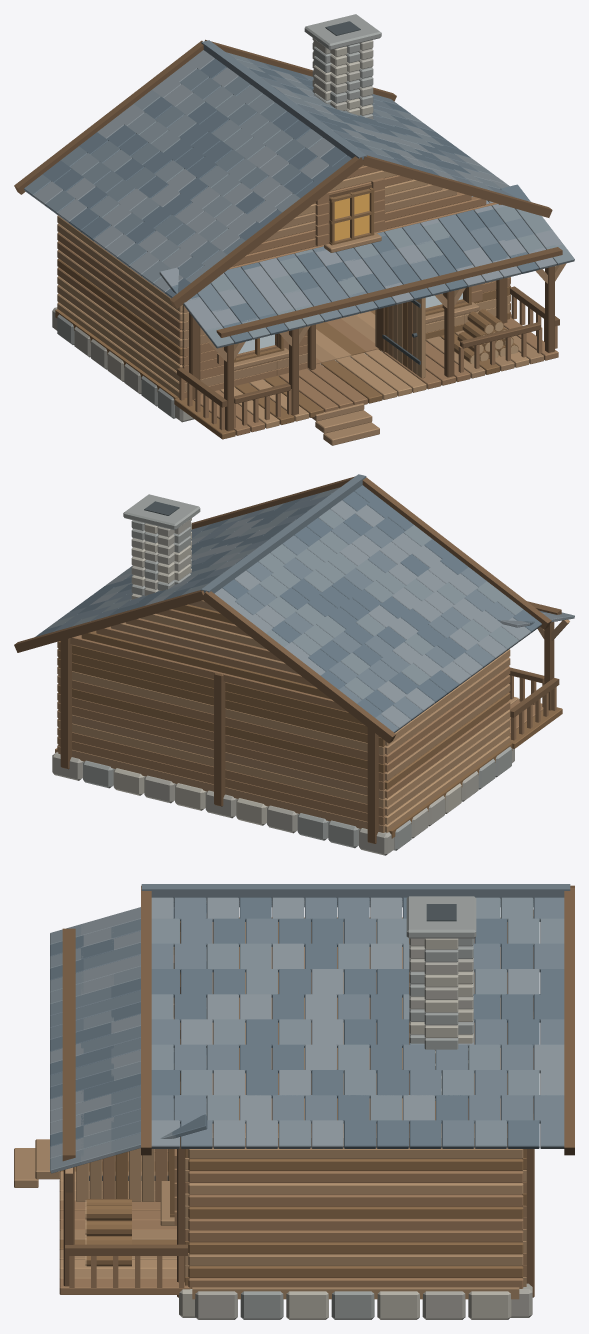
File: BaseLakesideCabin.fbx
The picture shows the model from 3 angles, top to bottom: view 1: azimuth 30°, elevation 25°; view 2: azimuth 150°, elevation 25°; view 3: azimuth 270°, elevation 25°; orthographic projection. The views are drawn at different scales.
Visible parts, largest first — view 1: Roof, Body, Windows; view 2: Body, Roof; view 3: Roof, Body.
Part boxes in pixels (x1,y1,x2,y2): Roof: (14,39,574,348); Body: (52,14,566,445); Windows: (334,193,369,240); Body: (52,494,569,855); Roof: (14,474,574,743); Roof: (50,884,574,1173); Body: (14,896,534,1319).
Bounding box in the file's own units: 1110 × 733 × 1047.
